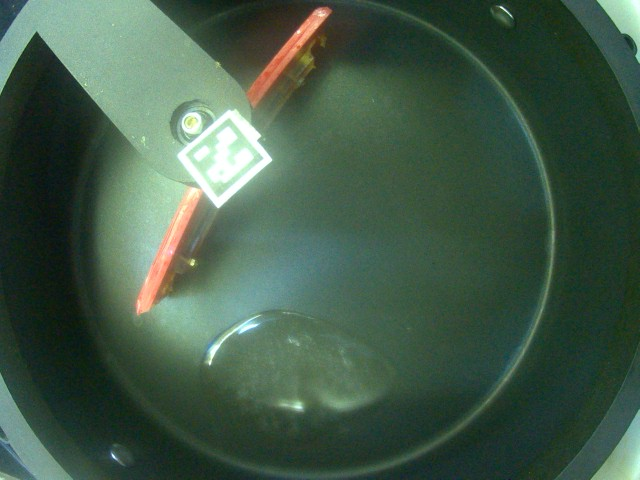stirrer: (35, 1, 272, 206)
